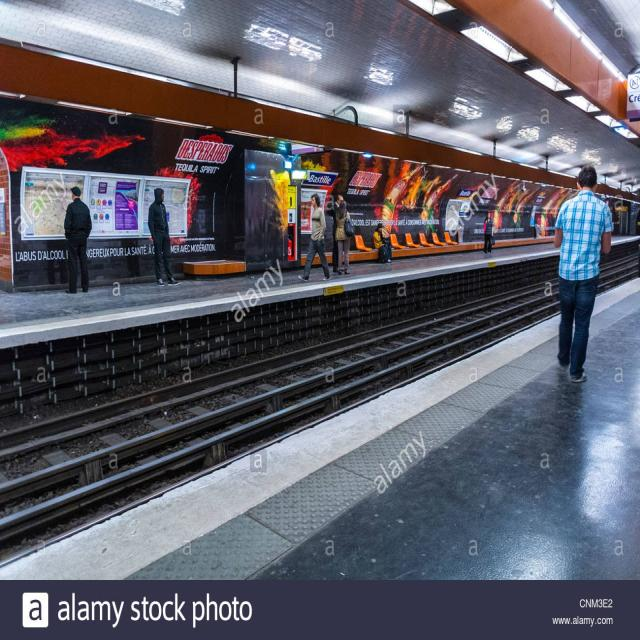body: (552, 164, 614, 383), (168, 182, 311, 235), (147, 186, 180, 287), (63, 185, 93, 294), (447, 200, 555, 230), (297, 193, 331, 282), (336, 200, 354, 276), (332, 194, 344, 273), (373, 222, 392, 263), (607, 196, 625, 226), (482, 211, 494, 255)
